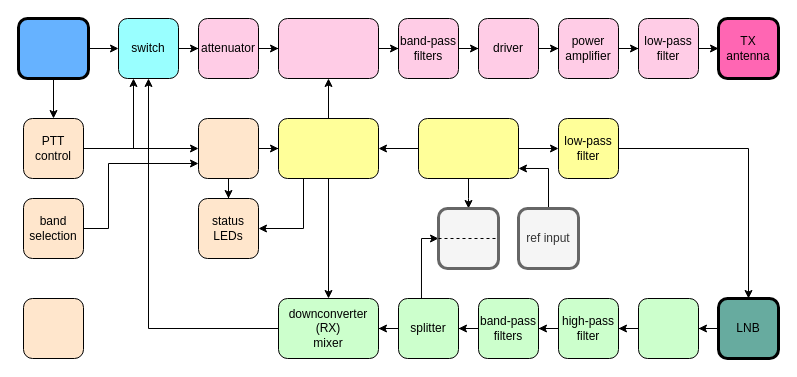
The diagram is 797 pixels wide and 377 high, and some of its shapes have lost their labels. The centre of each missing label's shape, as x and y in pixels:
bias-T: (668,328)
local oscillator PLL: (328,148)
power supply: (53,328)
ref output RX: (468,238)
reference 25M TCVCXO: (468,148)
transceiver: (53,48)
uC STM32: (228,148)
upconverter (TX) mixer: (328,48)
